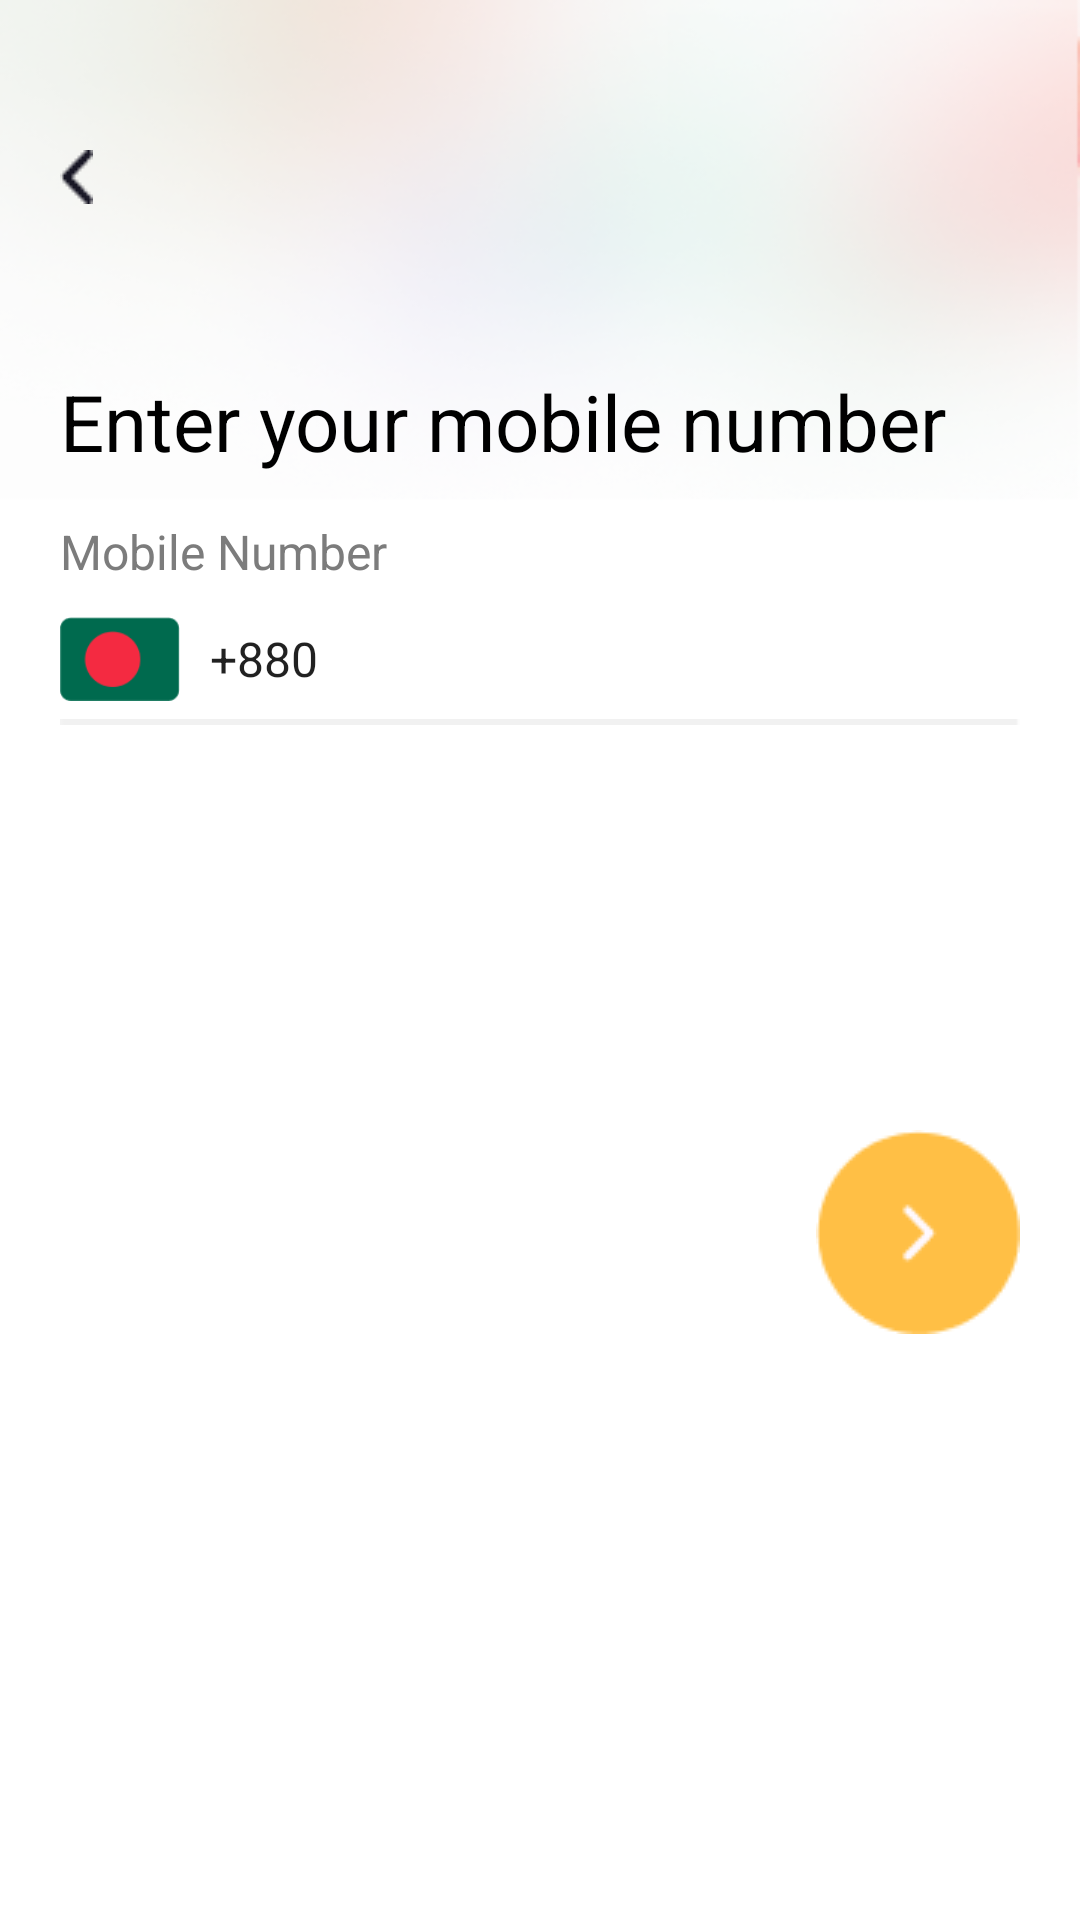

Named icons in this screenshot (1080 × 1920) and their centers, (x=x, y=y):
back: (x=76, y=177)
next: (x=918, y=1233)
